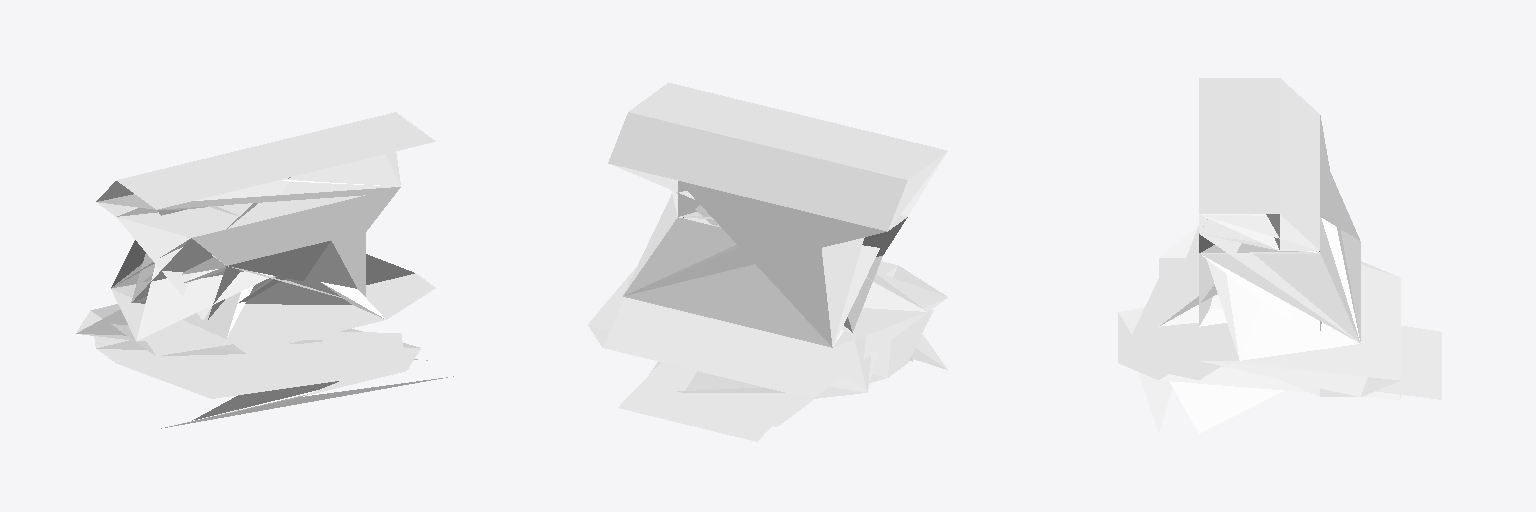
Rendered from chr_fox.obj.
3 renders of one model, left to right at view 1: azimuth 30°, elevation 25°; view 2: azimuth 150°, elevation 25°; view 3: azimuth 270°, elevation 25°, orthographic.
Size of the model in its own units: 8 by 6 by 8.